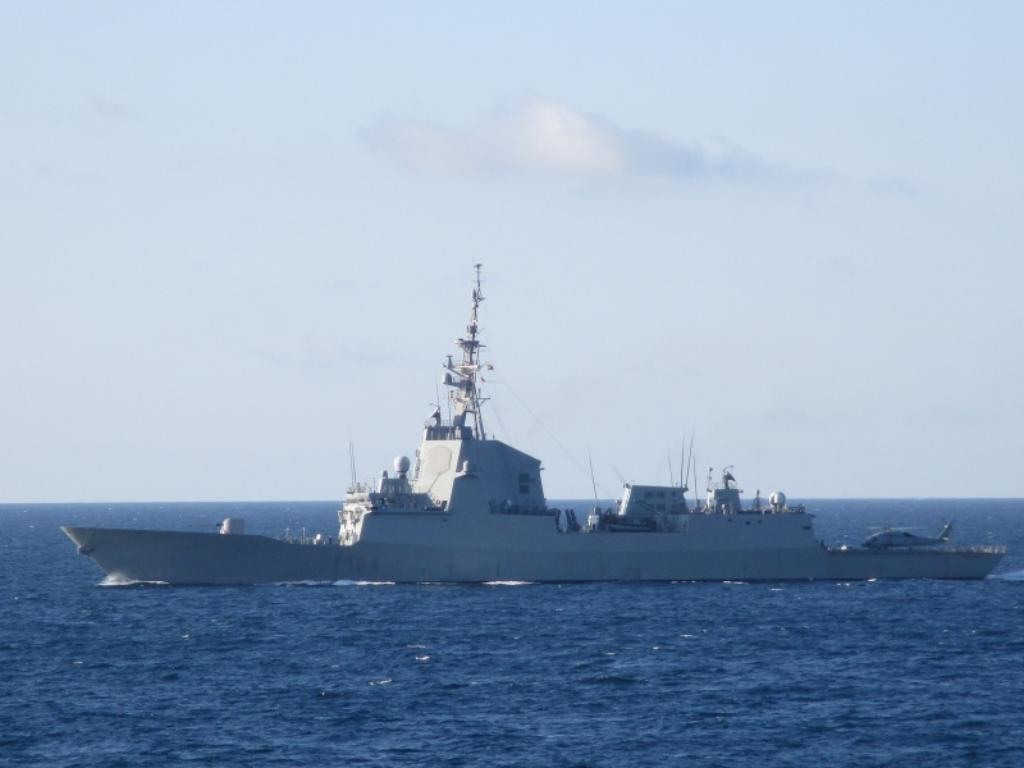Warship: (62, 253, 1012, 587)
